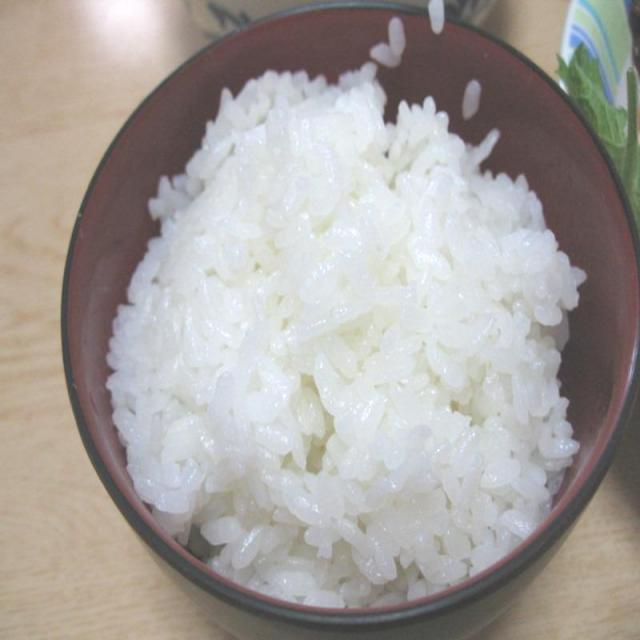rice: (108, 66, 583, 610)
